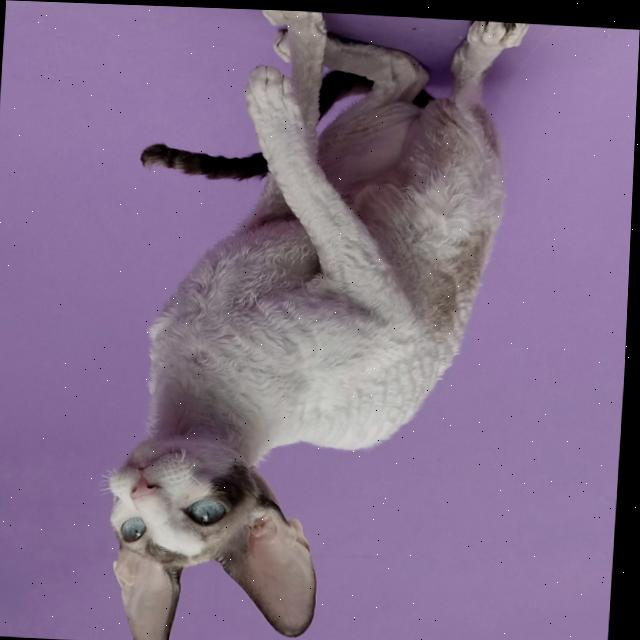Cornish Rex: (99, 4, 536, 640)
